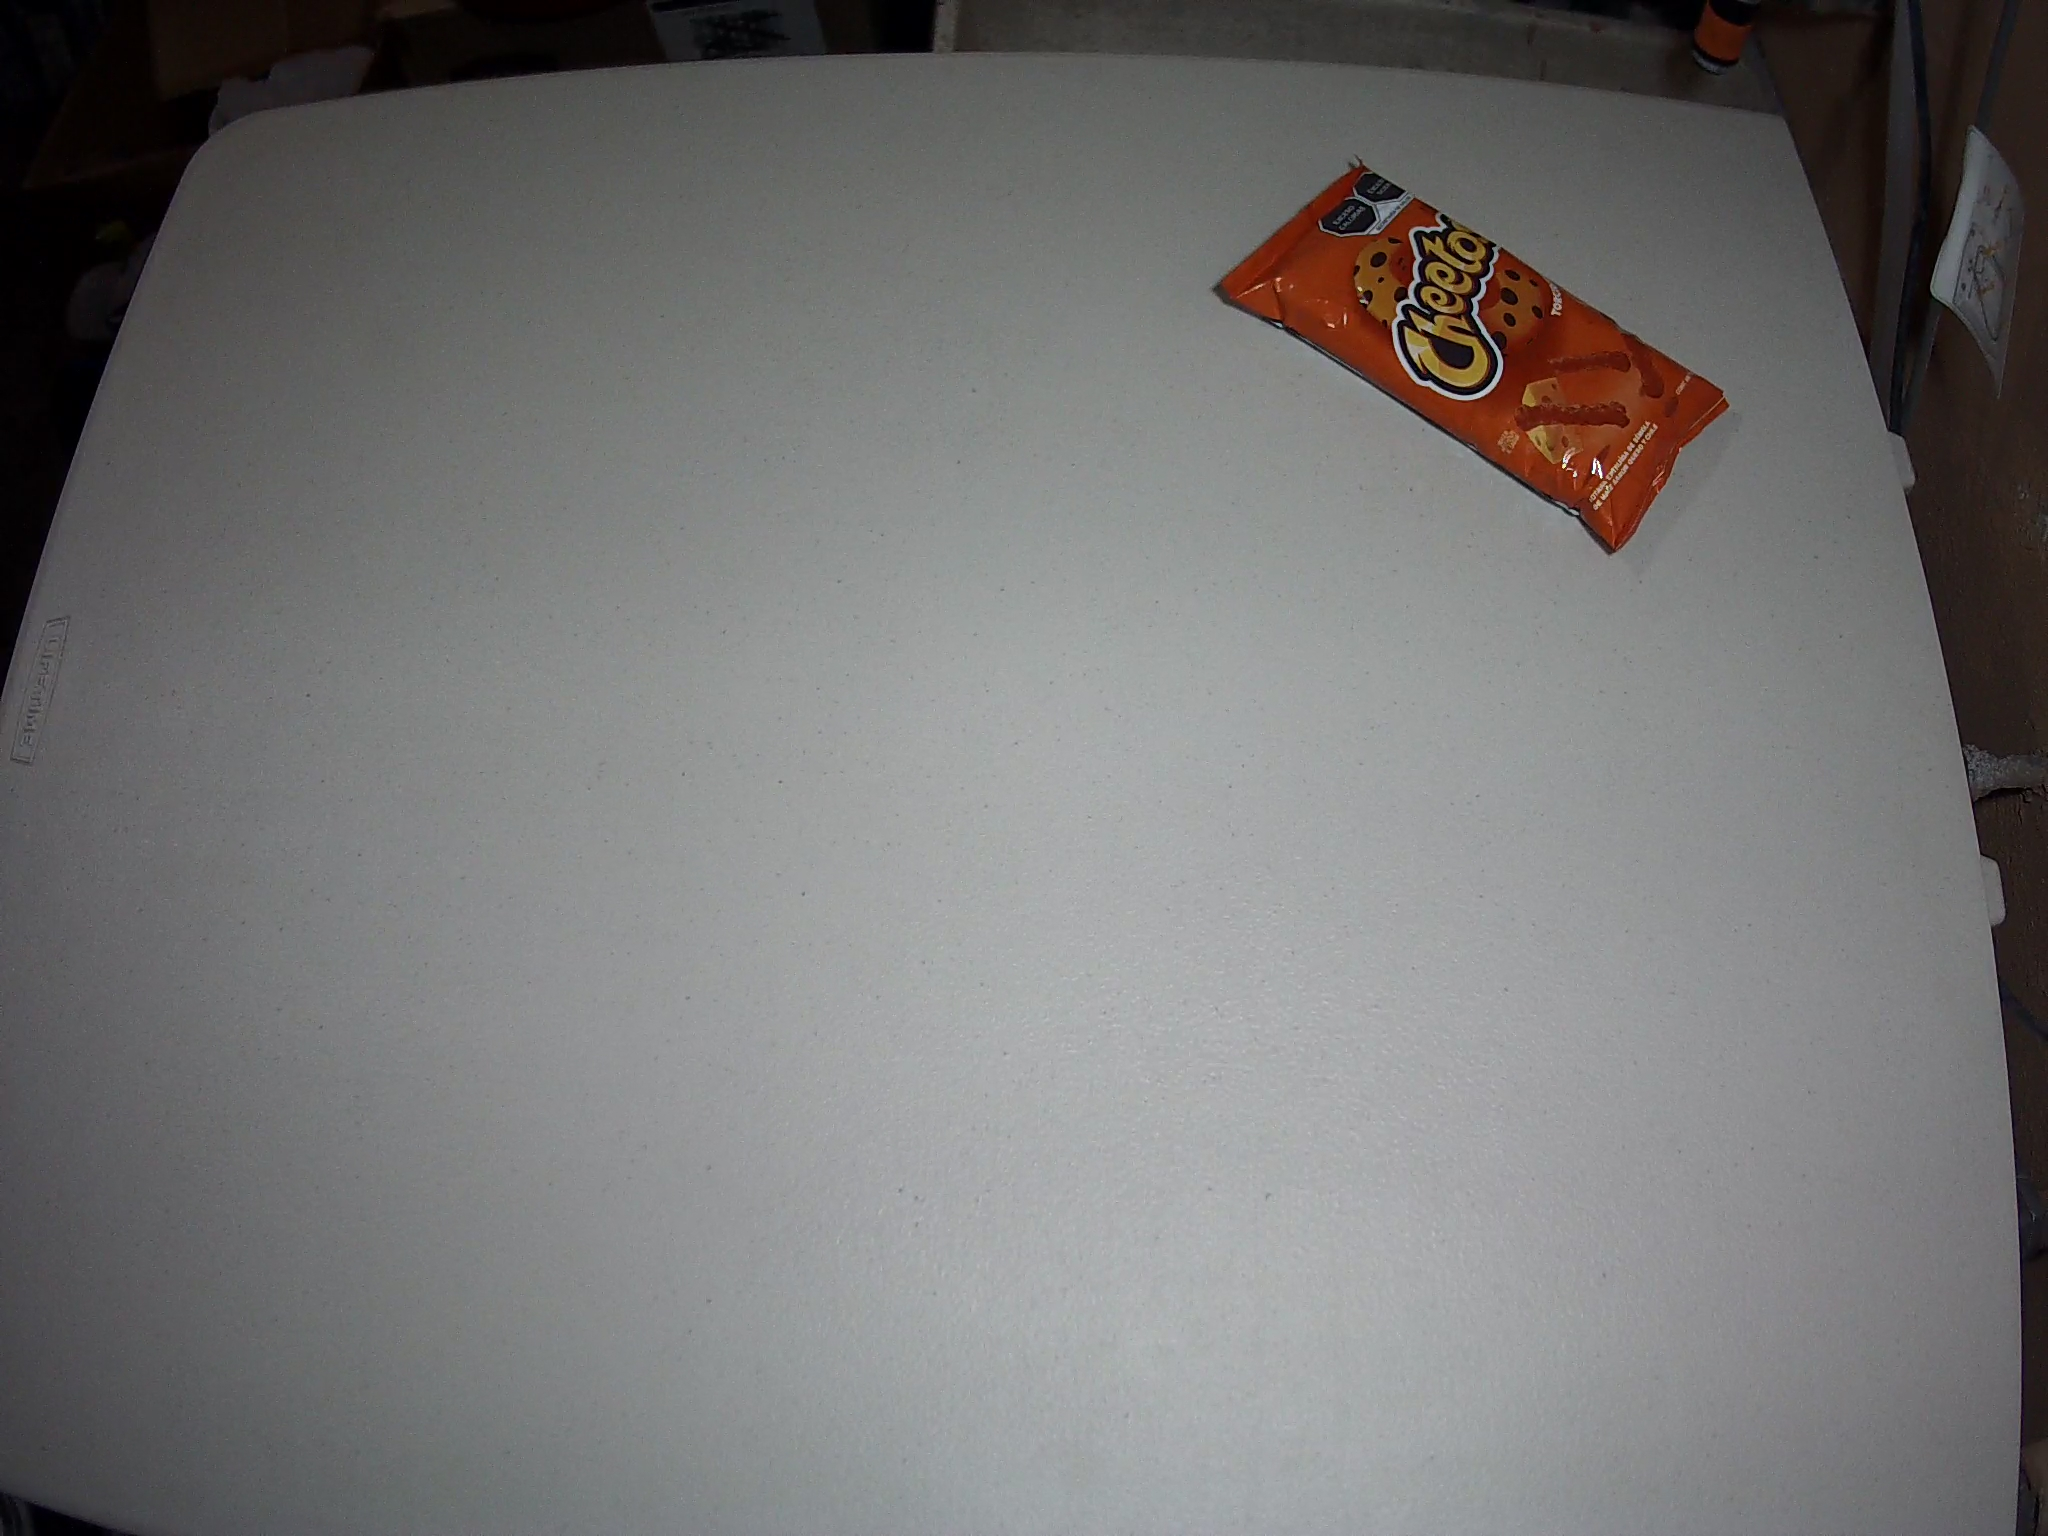CheetosTorciditos_55_F: (1216, 153, 1730, 557)
